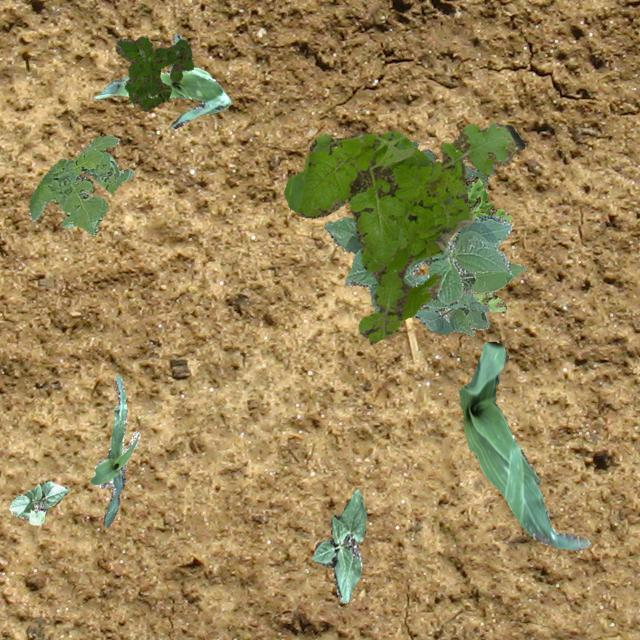crop: (458, 341, 590, 548), (324, 215, 511, 312), (93, 32, 230, 128), (413, 260, 525, 336), (90, 376, 138, 526), (310, 488, 366, 602), (8, 479, 66, 524)
weed: (284, 120, 524, 344), (29, 134, 132, 234), (462, 176, 510, 310), (114, 36, 192, 110), (410, 140, 488, 192)
